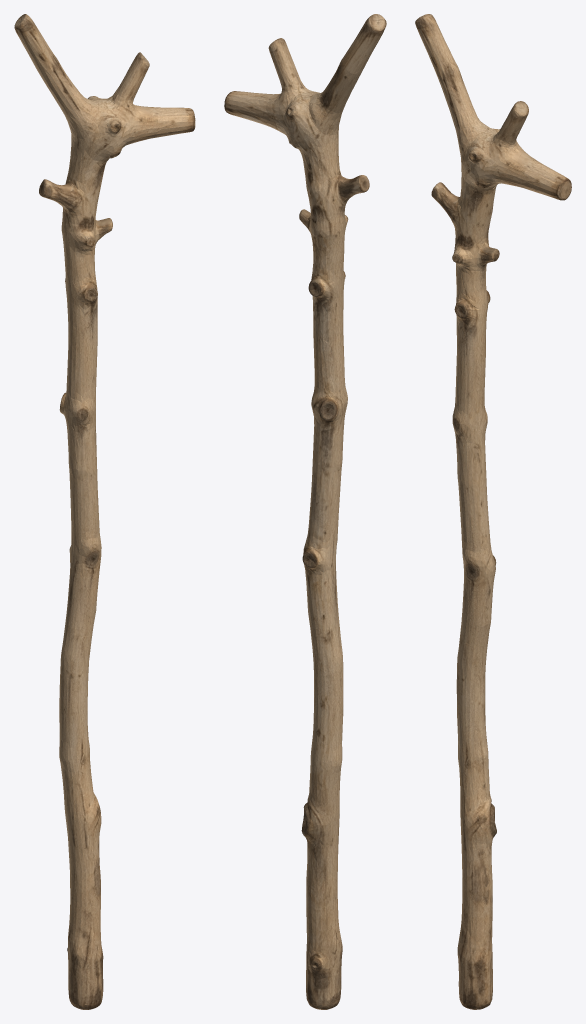
Rendered from Baston.obj.
3 renders of one model, left to right at view 1: azimuth 30°, elevation 25°; view 2: azimuth 150°, elevation 25°; view 3: azimuth 330°, elevation 25°, orthographic. The views are drawn at different scales.
Parts seen in each view (by area): view 1: output_unwrapped; view 2: output_unwrapped; view 3: output_unwrapped.
Part boxes in pixels (x1,y1,x2,y2): output_unwrapped: (14,14,195,1009); output_unwrapped: (224,14,386,1009); output_unwrapped: (415,14,571,1009).
Bounding box in the file's own units: 0.3307 × 1.9 × 0.1083.
1 material, 1 textured.
